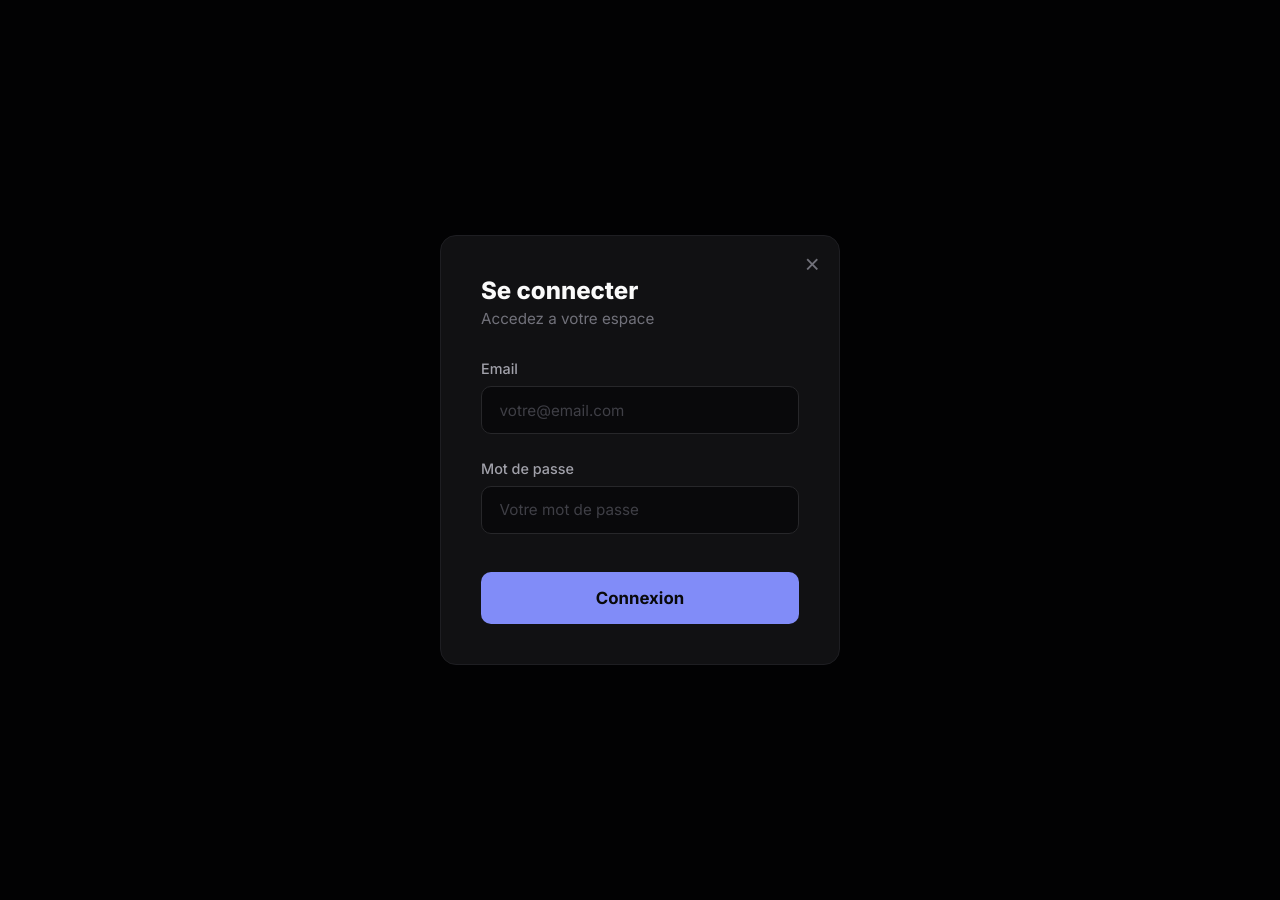
Test: LoginModal › affiche une erreur si les champs sont vides a la soumission
Click the button "Connexion" at point(640, 598), box [481,572,799,624]
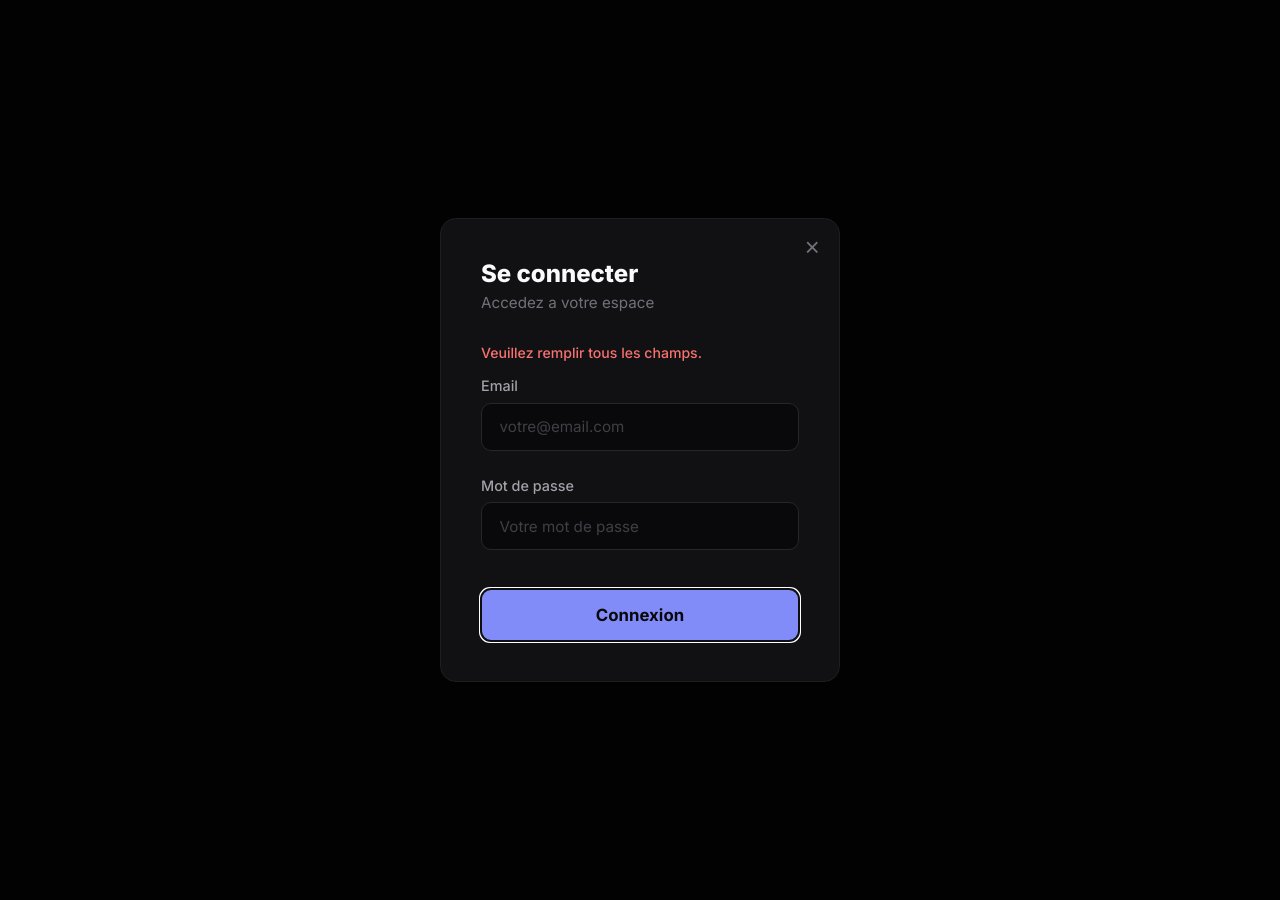
Expected: the text "Veuillez remplir tous les champs." is shown, [481,344,702,361]
